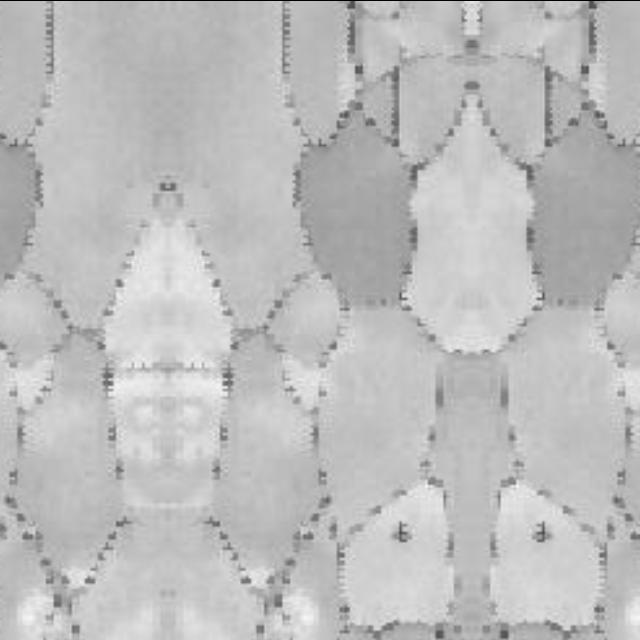good_void: (526, 519, 555, 548), (388, 519, 417, 547)
